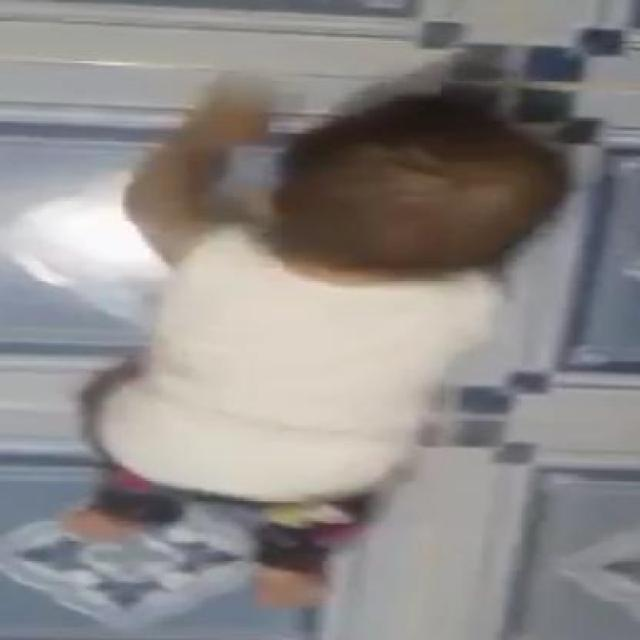baby: (61, 89, 572, 606)
